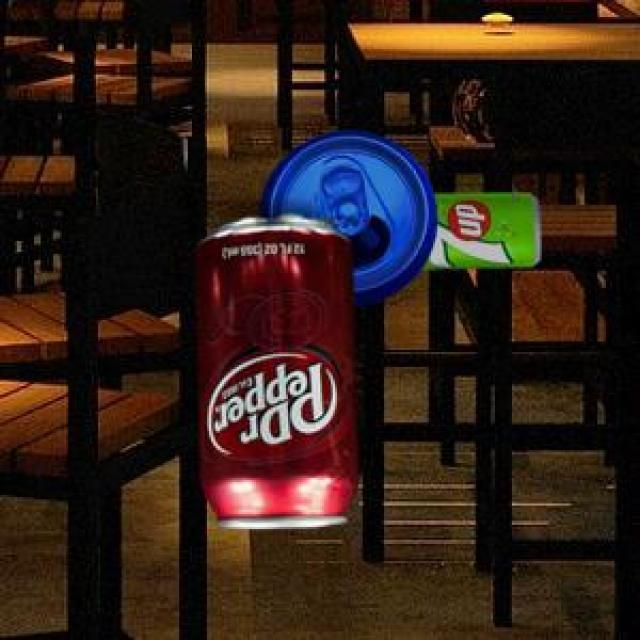Can: (193, 214, 355, 526), (257, 129, 434, 302), (419, 191, 537, 266)
